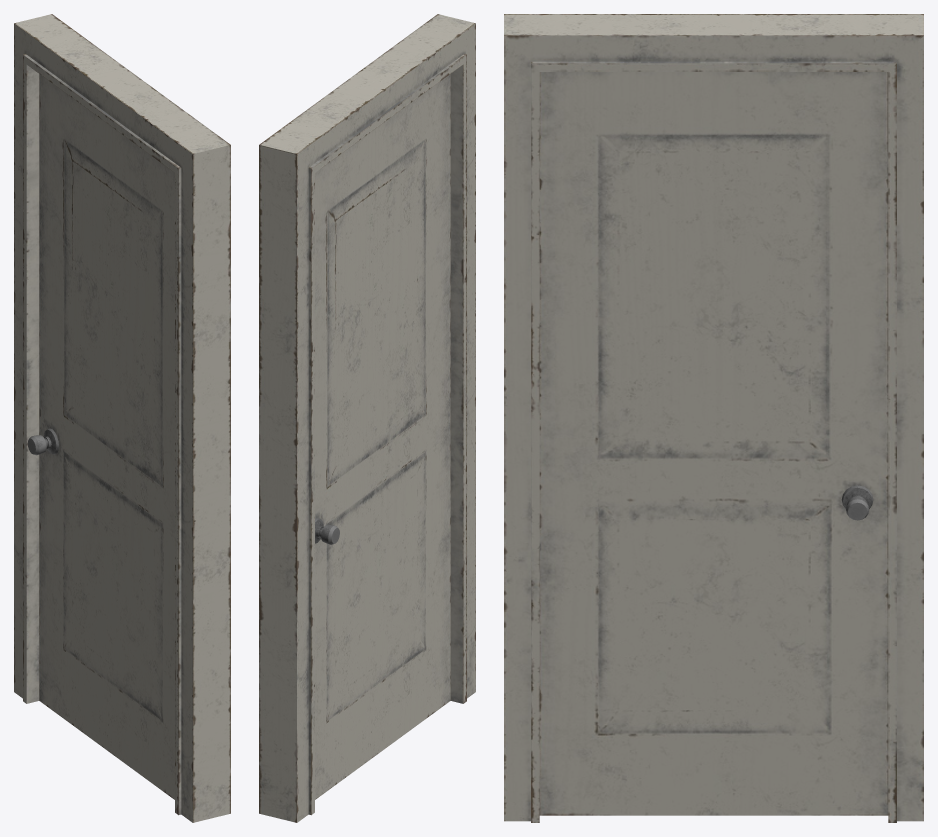
3 renders of one model, left to right at view 1: azimuth 30°, elevation 25°; view 2: azimuth 150°, elevation 25°; view 3: azimuth 270°, elevation 25°, orthographic. The views are drawn at different scales.
Parts seen in each view (by area): view 1: Door_low.002_Door_0_Baked; view 2: Door_low.002_Door_0_Baked; view 3: Door_low.002_Door_0_Baked.
Part boxes in pixels (x1=…): Door_low.002_Door_0_Baked: x1=14, y1=14, x2=230, y2=822; Door_low.002_Door_0_Baked: x1=259, y1=14, x2=475, y2=822; Door_low.002_Door_0_Baked: x1=504, y1=14, x2=923, y2=822.
Size of the model in its own units: 21.48 by 232 by 113.
1 material, 1 textured.
